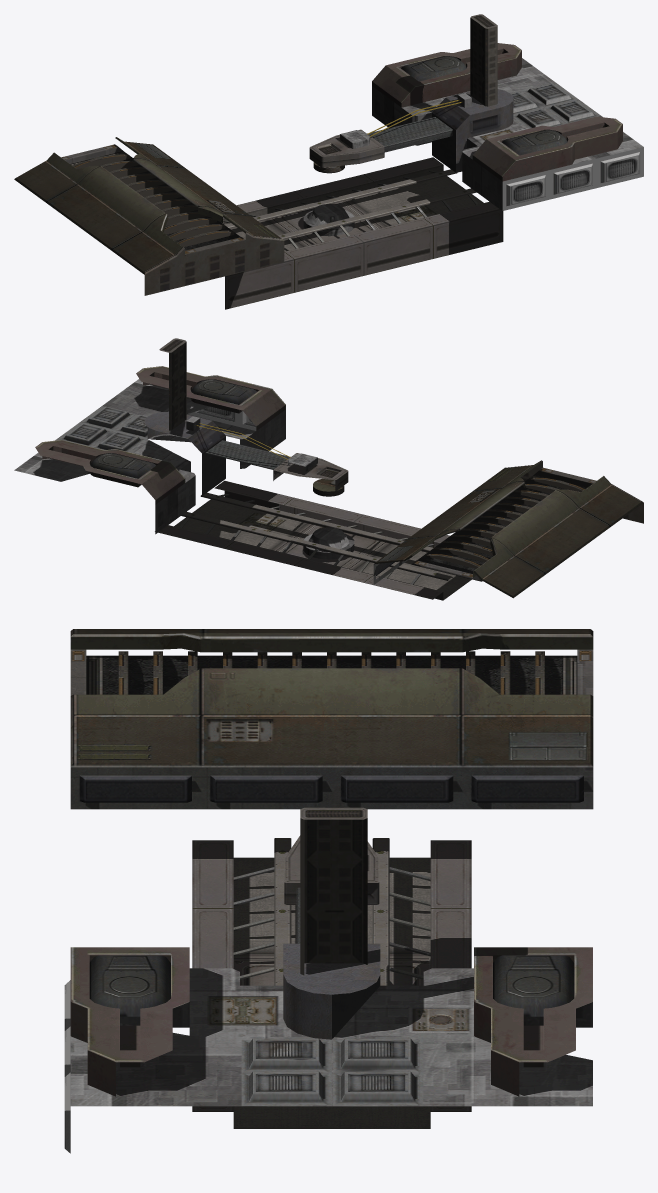
File: ML1_Revolver.FBX
3 renders of one model, top to bottom at view 1: azimuth 30°, elevation 25°; view 2: azimuth 150°, elevation 25°; view 3: azimuth 270°, elevation 25°, orthographic. The views are drawn at different scales.
Parts seen in each view (by area): view 1: ML1_Revolver; view 2: ML1_Revolver; view 3: ML1_Revolver.
Boxes of the visible parts, box(x1,y1,x2,y2) form: ML1_Revolver: box(14, 14, 643, 309); ML1_Revolver: box(14, 338, 643, 600); ML1_Revolver: box(64, 629, 593, 1153).
Bounding box in the file's own units: 35.31 × 12.88 × 16.18.
Materials: 1 (1 with a texture image).
